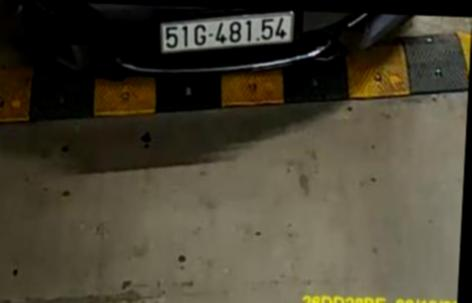License_Plate: (157, 11, 300, 59)
